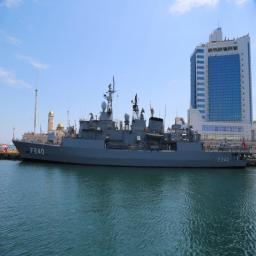Fragata: (12, 92, 251, 173)
